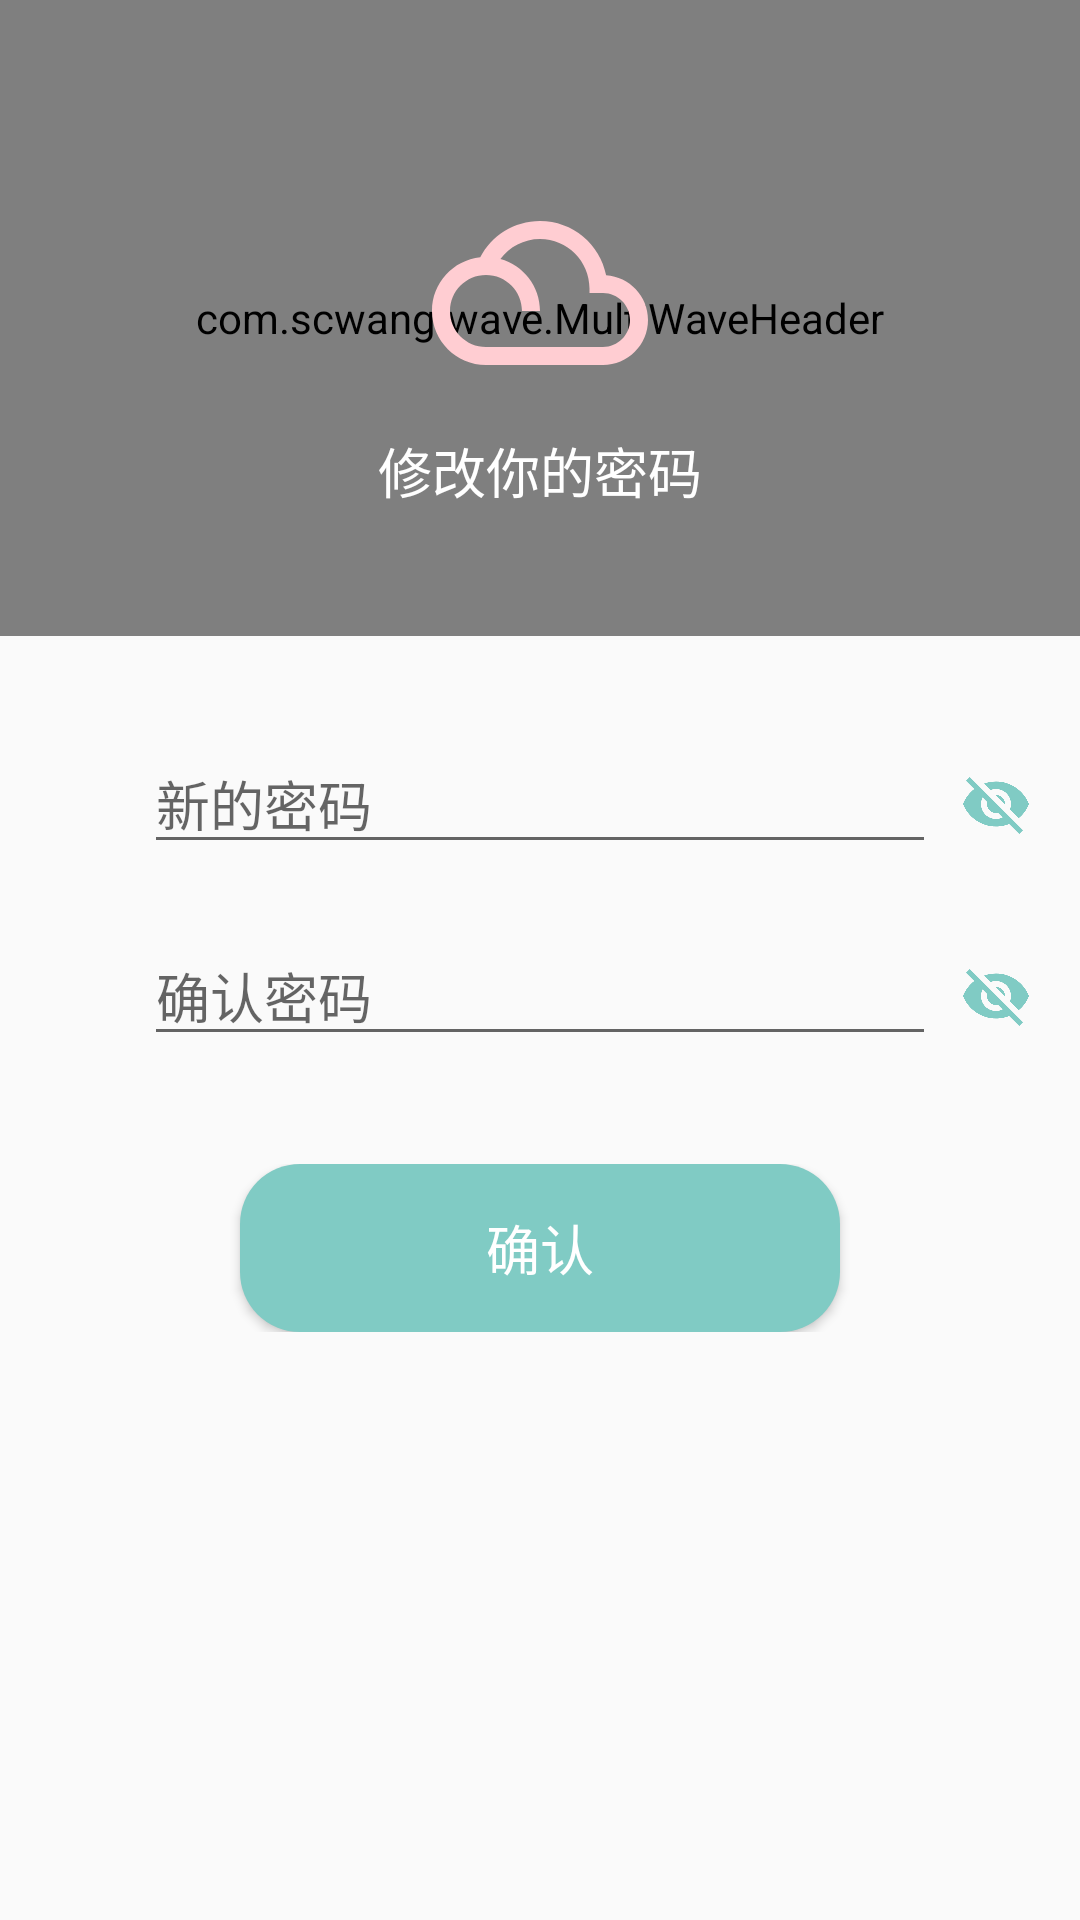

Point at icon controls on the screen. Image size 1080 x 1920, points as point (x, y).
filter drama: point (540, 293)
visibility off: point (996, 805), point (996, 997)
